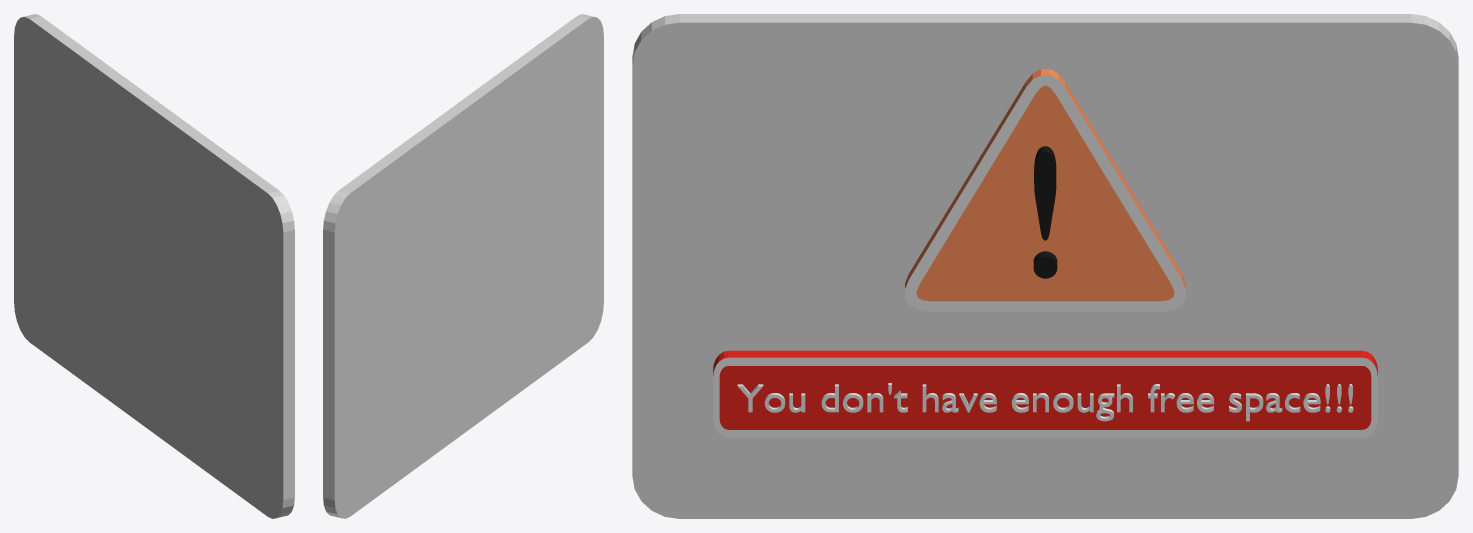
Rendered from StorageFull.fbx.
3 views of the same model, side by side, from view 1: azimuth 30°, elevation 25°; view 2: azimuth 150°, elevation 25°; view 3: azimuth 270°, elevation 25° (orthographic). The views are drawn at different scales.
Parts seen in each view (by area): view 1: ErrorBox; view 2: ErrorBox; view 3: ErrorBox, ErrorMessage, ErrorIcon.
Boxes of the visible parts, box(x1,y1,x2,y2) form: ErrorBox: box(14, 14, 294, 518); ErrorBox: box(323, 14, 603, 518); ErrorBox: box(632, 14, 1458, 518); ErrorMessage: box(713, 350, 1377, 437); ErrorIcon: box(905, 69, 1185, 311).
Bounding box in the file's own units: 85.28 × 974 × 1469.
